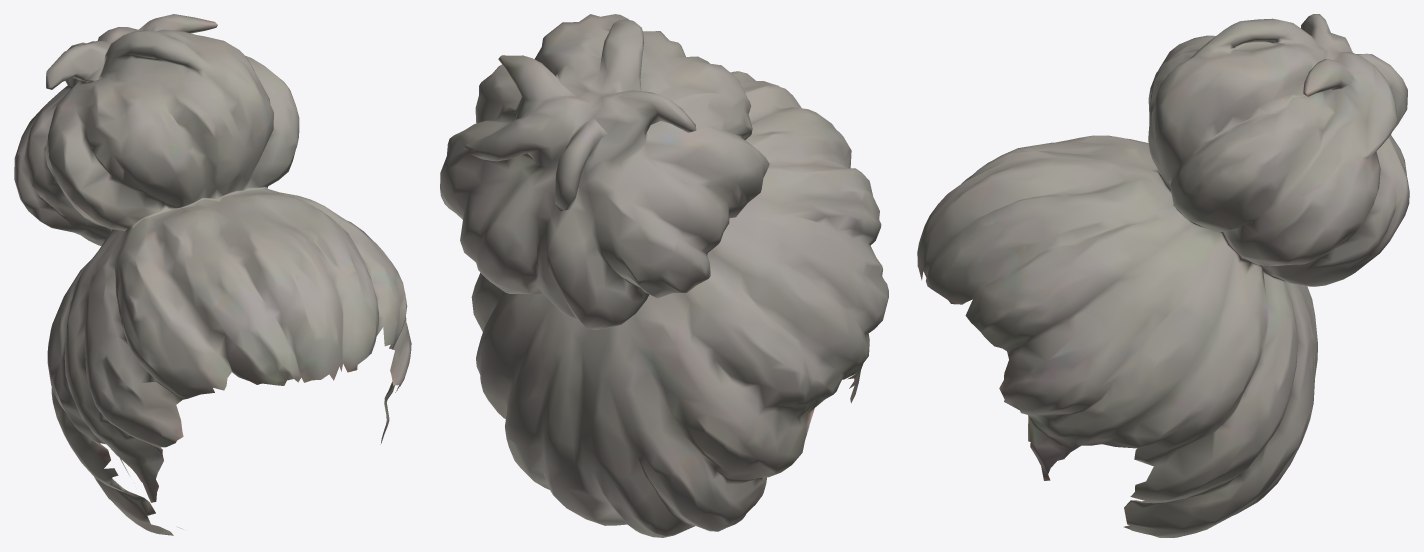
Rendered from hair-f-top-knot.glb.
3 renders of one model, left to right at view 1: azimuth 30°, elevation 25°; view 2: azimuth 150°, elevation 25°; view 3: azimuth 270°, elevation 25°, orthographic. The views are drawn at different scales.
Parts seen in each view (by area): view 1: hair-f-top-knot; view 2: hair-f-top-knot; view 3: hair-f-top-knot.
Boxes of the visible parts, x1=… form: hair-f-top-knot: x1=14, y1=14, x2=411, y2=535; hair-f-top-knot: x1=440, y1=14, x2=888, y2=537; hair-f-top-knot: x1=917, y1=14, x2=1409, y2=537.
Bounding box in the file's own units: 0.9475 × 1.36 × 1.24.
Materials: 1 (1 with a texture image).
